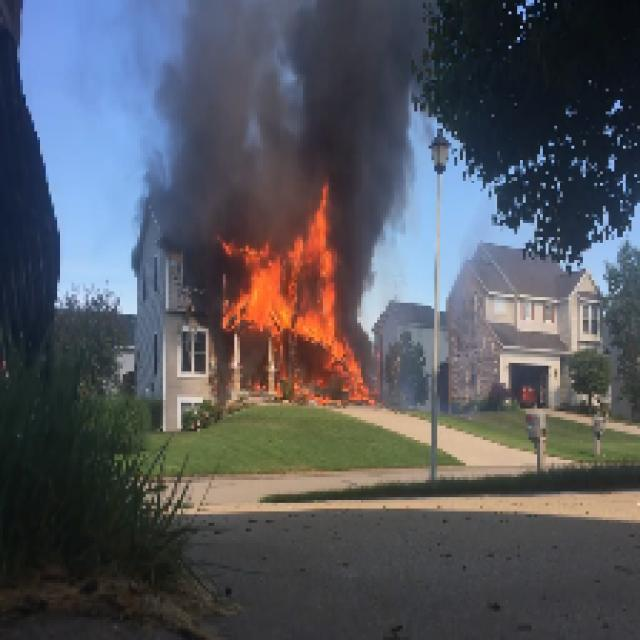Fire: (291, 186, 340, 331), (226, 246, 288, 323)
Smoke: (132, 3, 294, 226), (292, 3, 428, 174), (352, 177, 417, 337)
